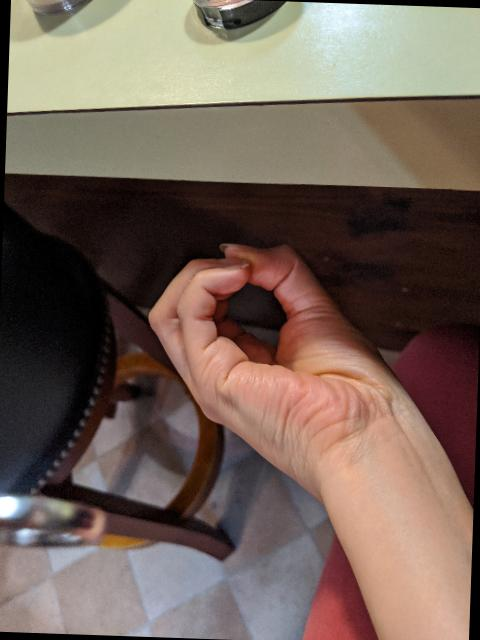O: (139, 236, 412, 489)
